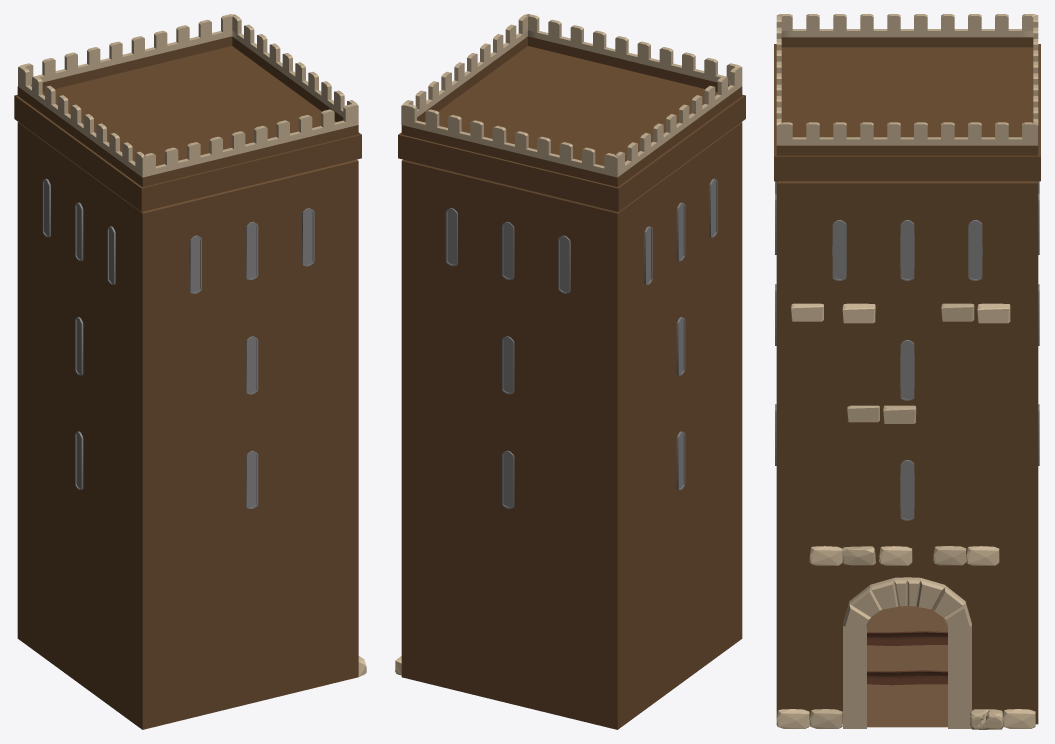
The model's file is SM_large_tower_01.fbx.
3 views of the same model, side by side, from view 1: azimuth 30°, elevation 25°; view 2: azimuth 150°, elevation 25°; view 3: azimuth 270°, elevation 25° (orthographic). The views are drawn at different scales.
Parts seen in each view (by area): view 1: large_tower_01; view 2: large_tower_01; view 3: large_tower_01.
Boxes of the visible parts, x1=… form: large_tower_01: x1=14, y1=14, x2=366, y2=729; large_tower_01: x1=395, y1=14, x2=745, y2=729; large_tower_01: x1=774, y1=14, x2=1040, y2=729.
Bounding box in the file's own units: 532 × 1270 × 510.
